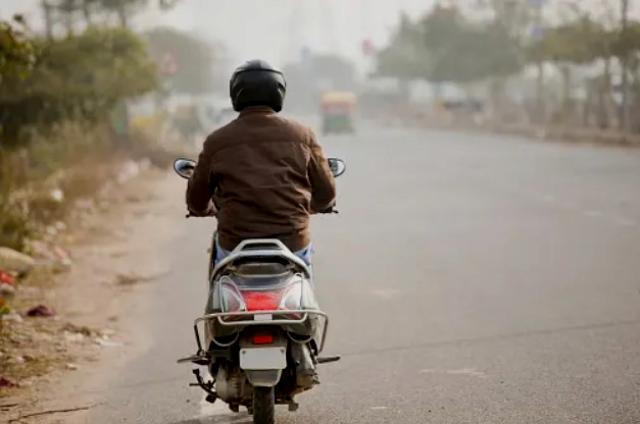licensePlate: (244, 346, 290, 373)
motorcycle: (157, 49, 337, 422)
withHelmet: (220, 55, 290, 110)
